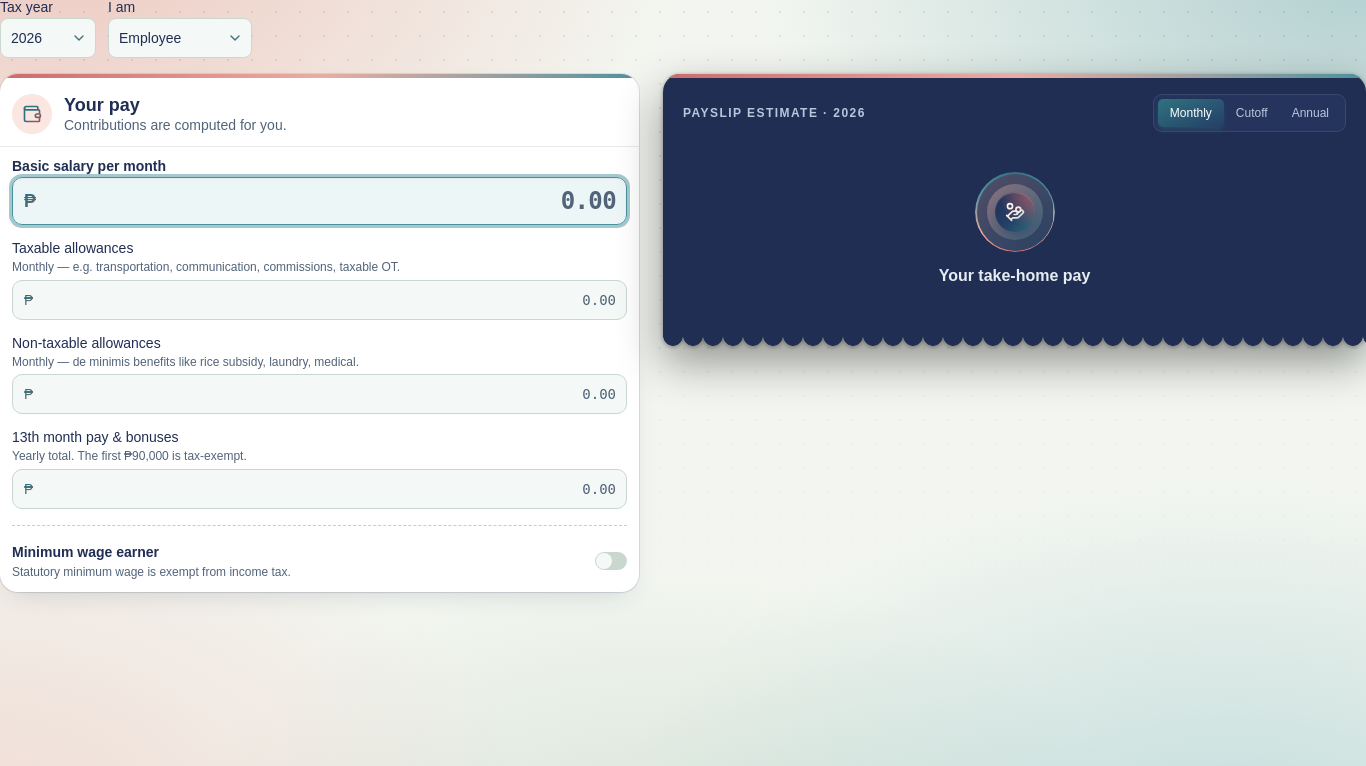
Monthly › shows half of each line for a cutoff, and twelve months for the year
In the field labelled "Basic salary per month": (320, 201) 12,177 -> 627,225, type "35000"
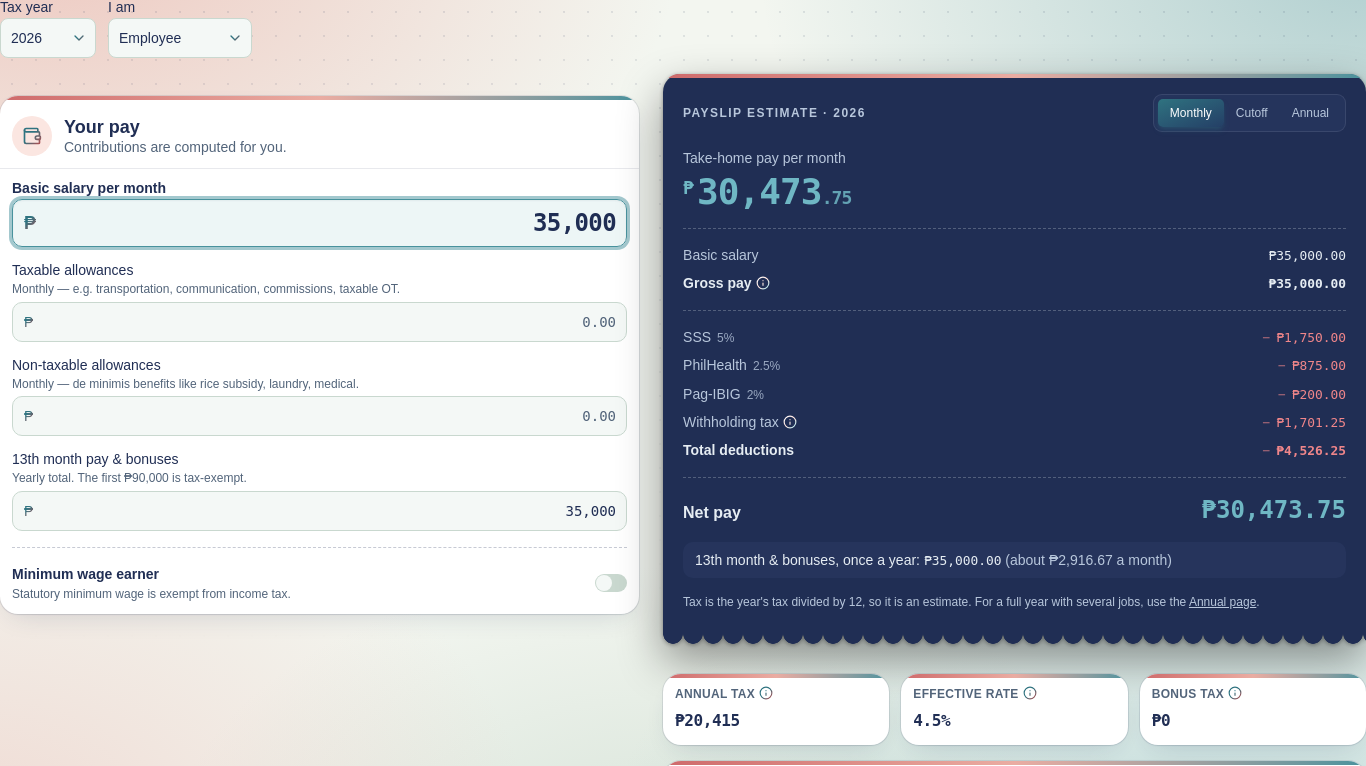
Click the radio button labelled "Cutoff": (1252, 113) 1224,99 -> 1280,127
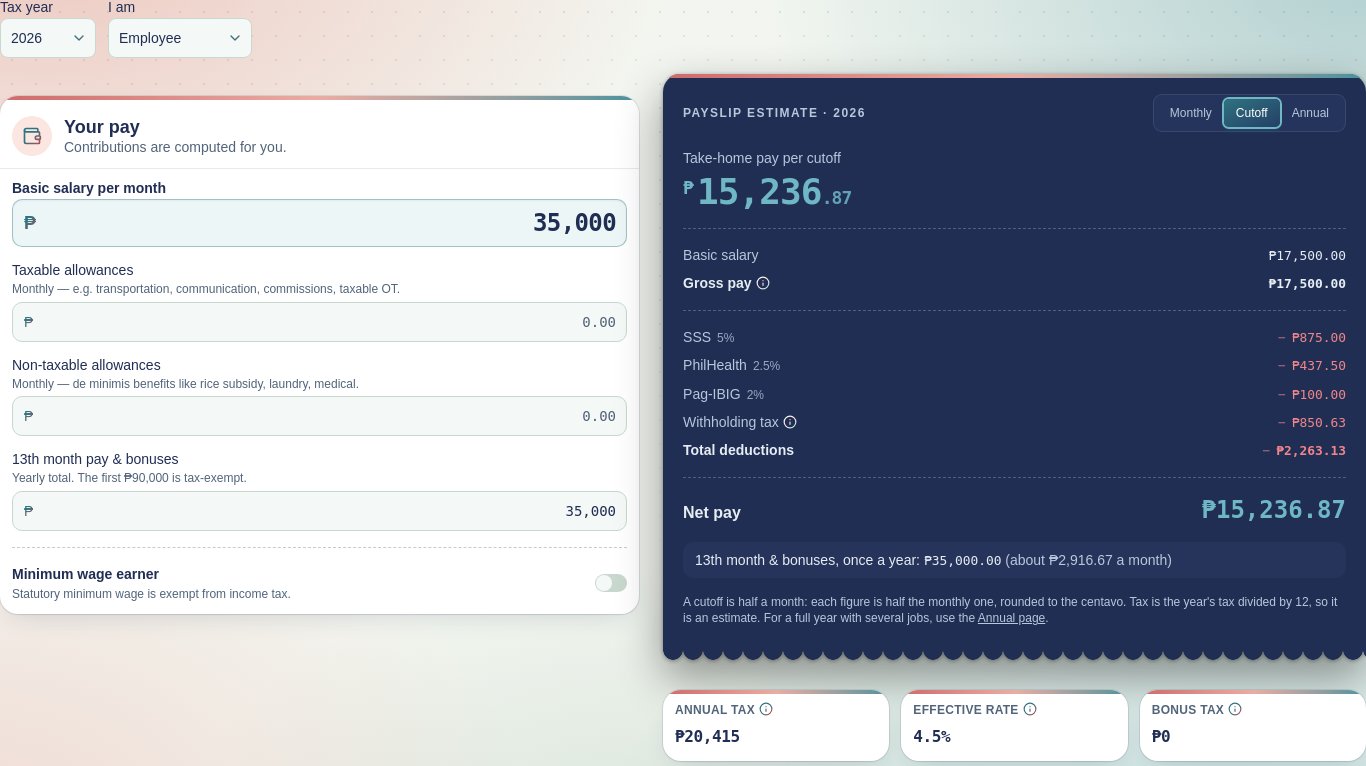
Expected: the text "₱15,236.87" is shown, 1202,494 -> 1346,526
Click the radio button labelled "Annual": (1310, 113) 1280,99 -> 1341,127
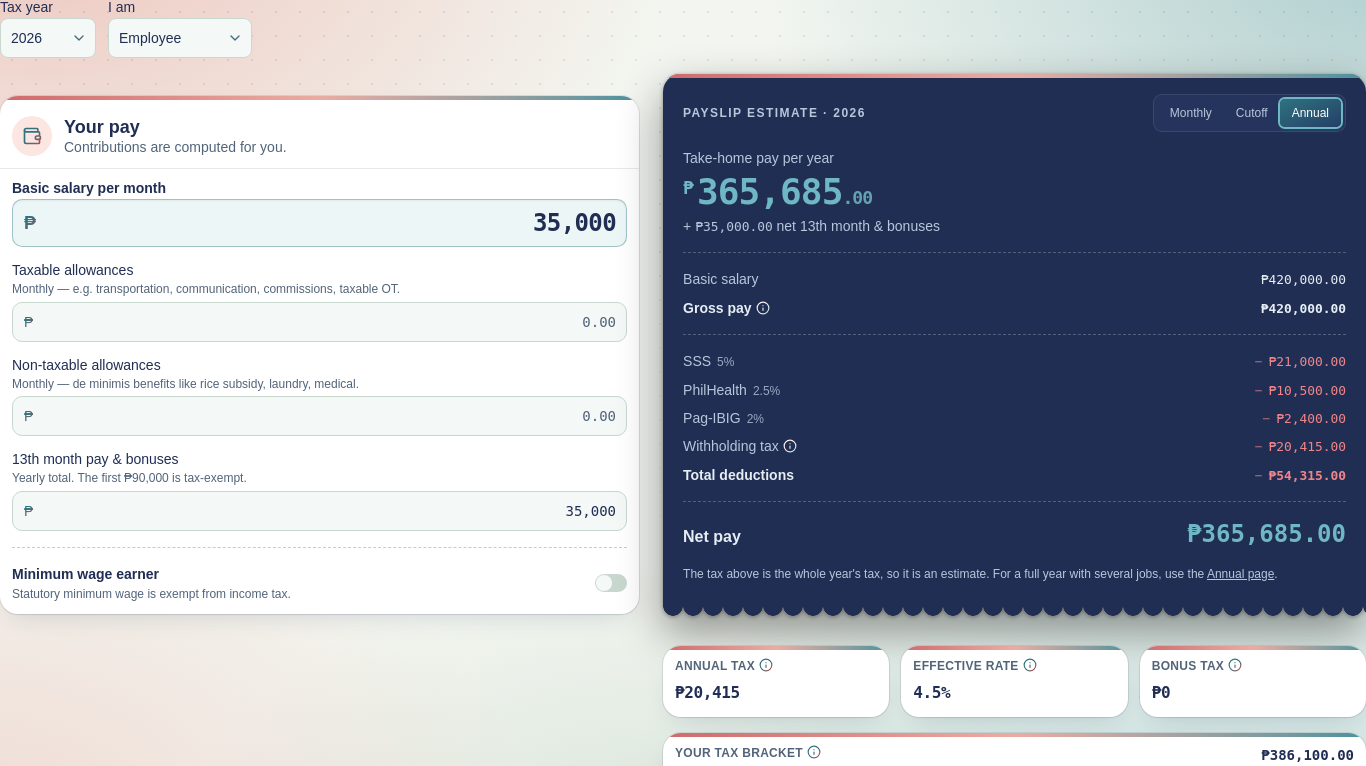
Expected: the text "₱365,685.00" is shown, 1187,518 -> 1346,550
